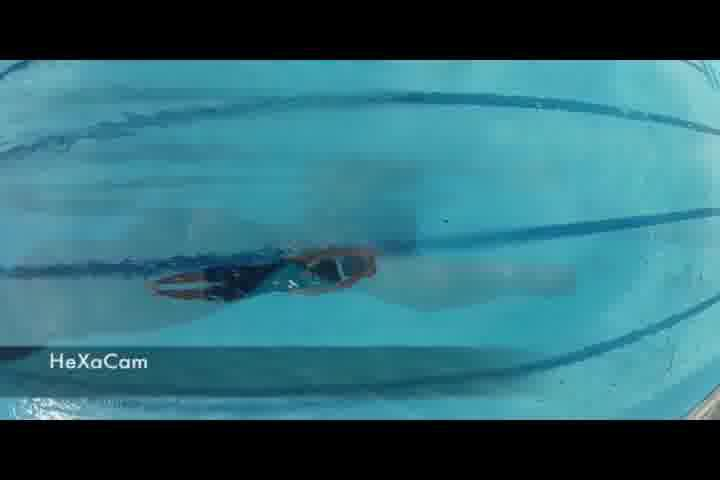human: (144, 242, 382, 303)
